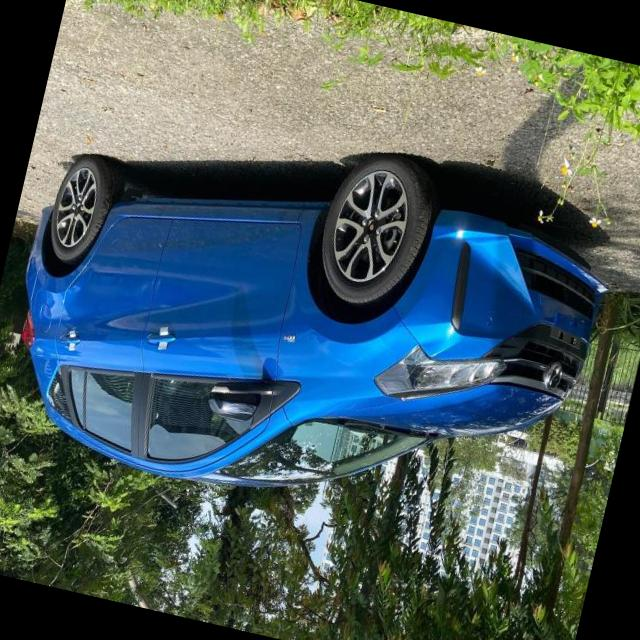PeroduaMyvi: (0, 77, 628, 567)
